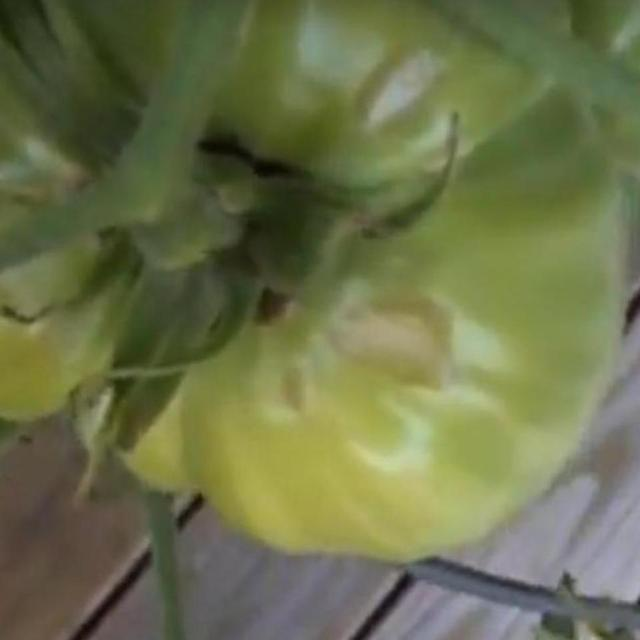Sunscald Fruit: (69, 60, 267, 242)
